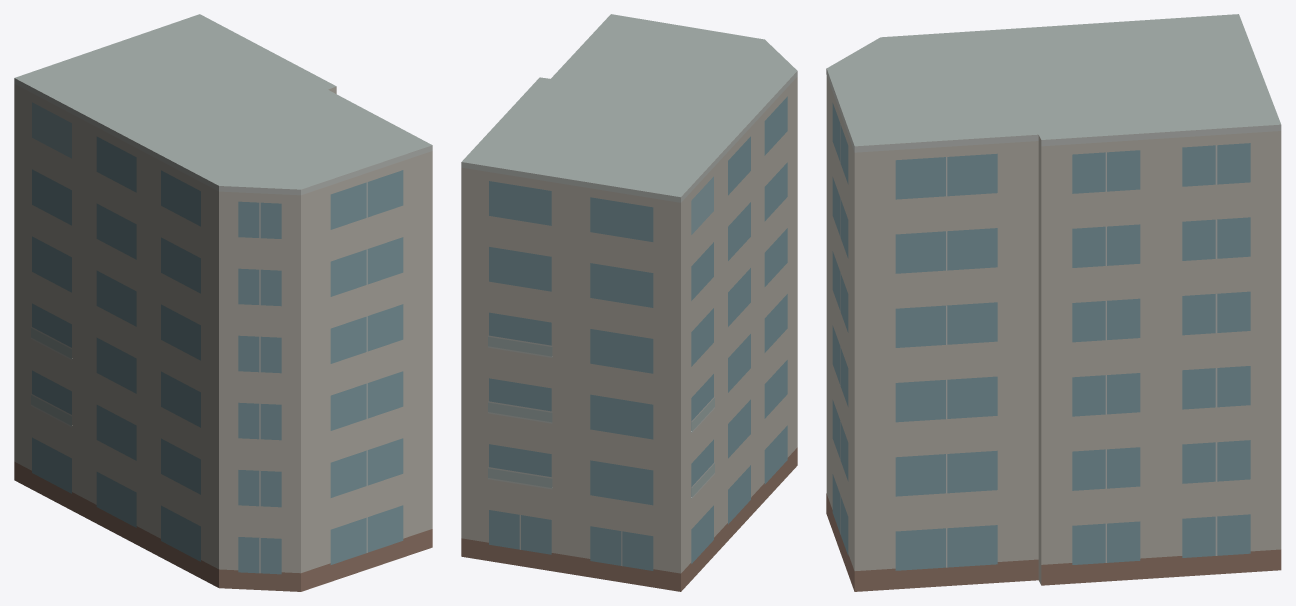
The model's file is survey-upis-32524965.glb.
3 views of the same model, side by side, from view 1: azimuth 30°, elevation 25°; view 2: azimuth 150°, elevation 25°; view 3: azimuth 270°, elevation 25° (orthographic). The views are drawn at different scales.
Visible parts, largest first — view 1: survey-upis-32524965.tmp; view 2: survey-upis-32524965.tmp; view 3: survey-upis-32524965.tmp.
Boxes of the visible parts, box(x1,y1,x2,y2) form: survey-upis-32524965.tmp: box(14, 14, 432, 591); survey-upis-32524965.tmp: box(461, 14, 797, 591); survey-upis-32524965.tmp: box(826, 14, 1281, 591).
Size of the model in its own units: 11 by 17.25 by 15.97.
